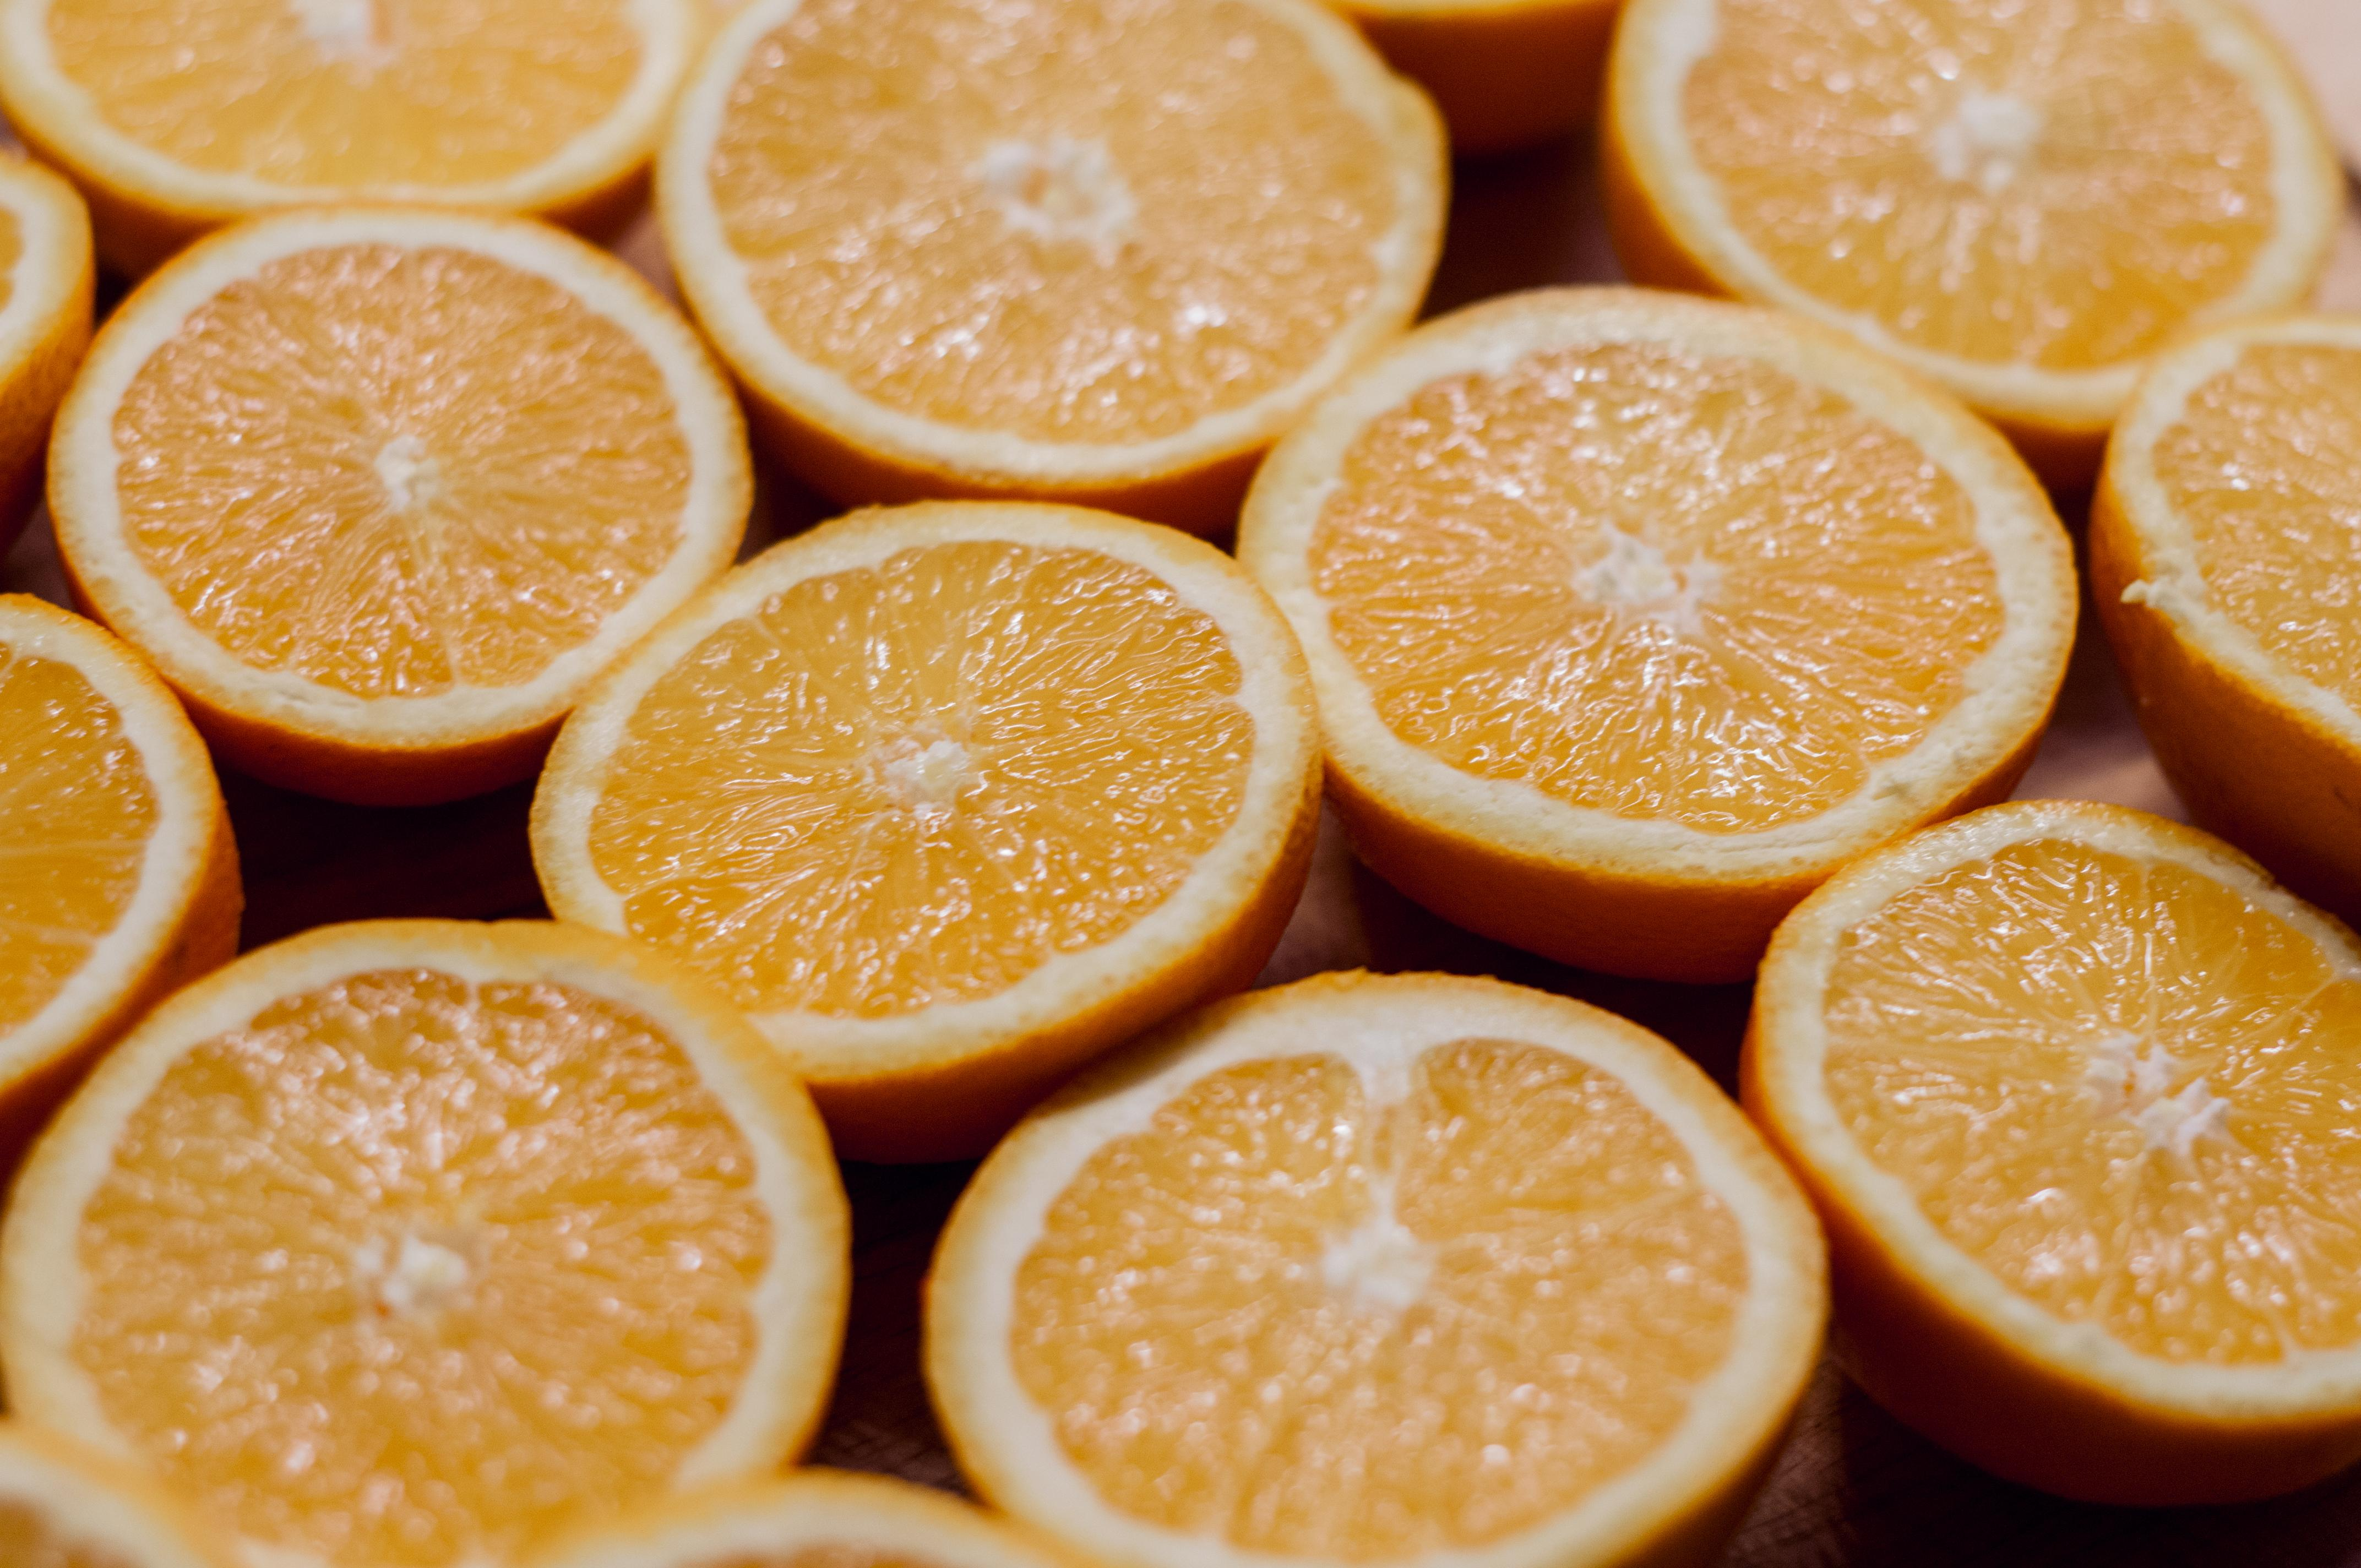orange: (907, 961, 1827, 1568), (23, 917, 845, 1568), (1264, 278, 2090, 891), (525, 485, 1334, 1087), (1759, 782, 2361, 1510), (35, 196, 758, 766), (677, 0, 1446, 483), (1600, 3, 2361, 434), (4, 0, 679, 222), (2104, 308, 2361, 866), (0, 583, 228, 1134), (2361, 695, 2361, 1568)
